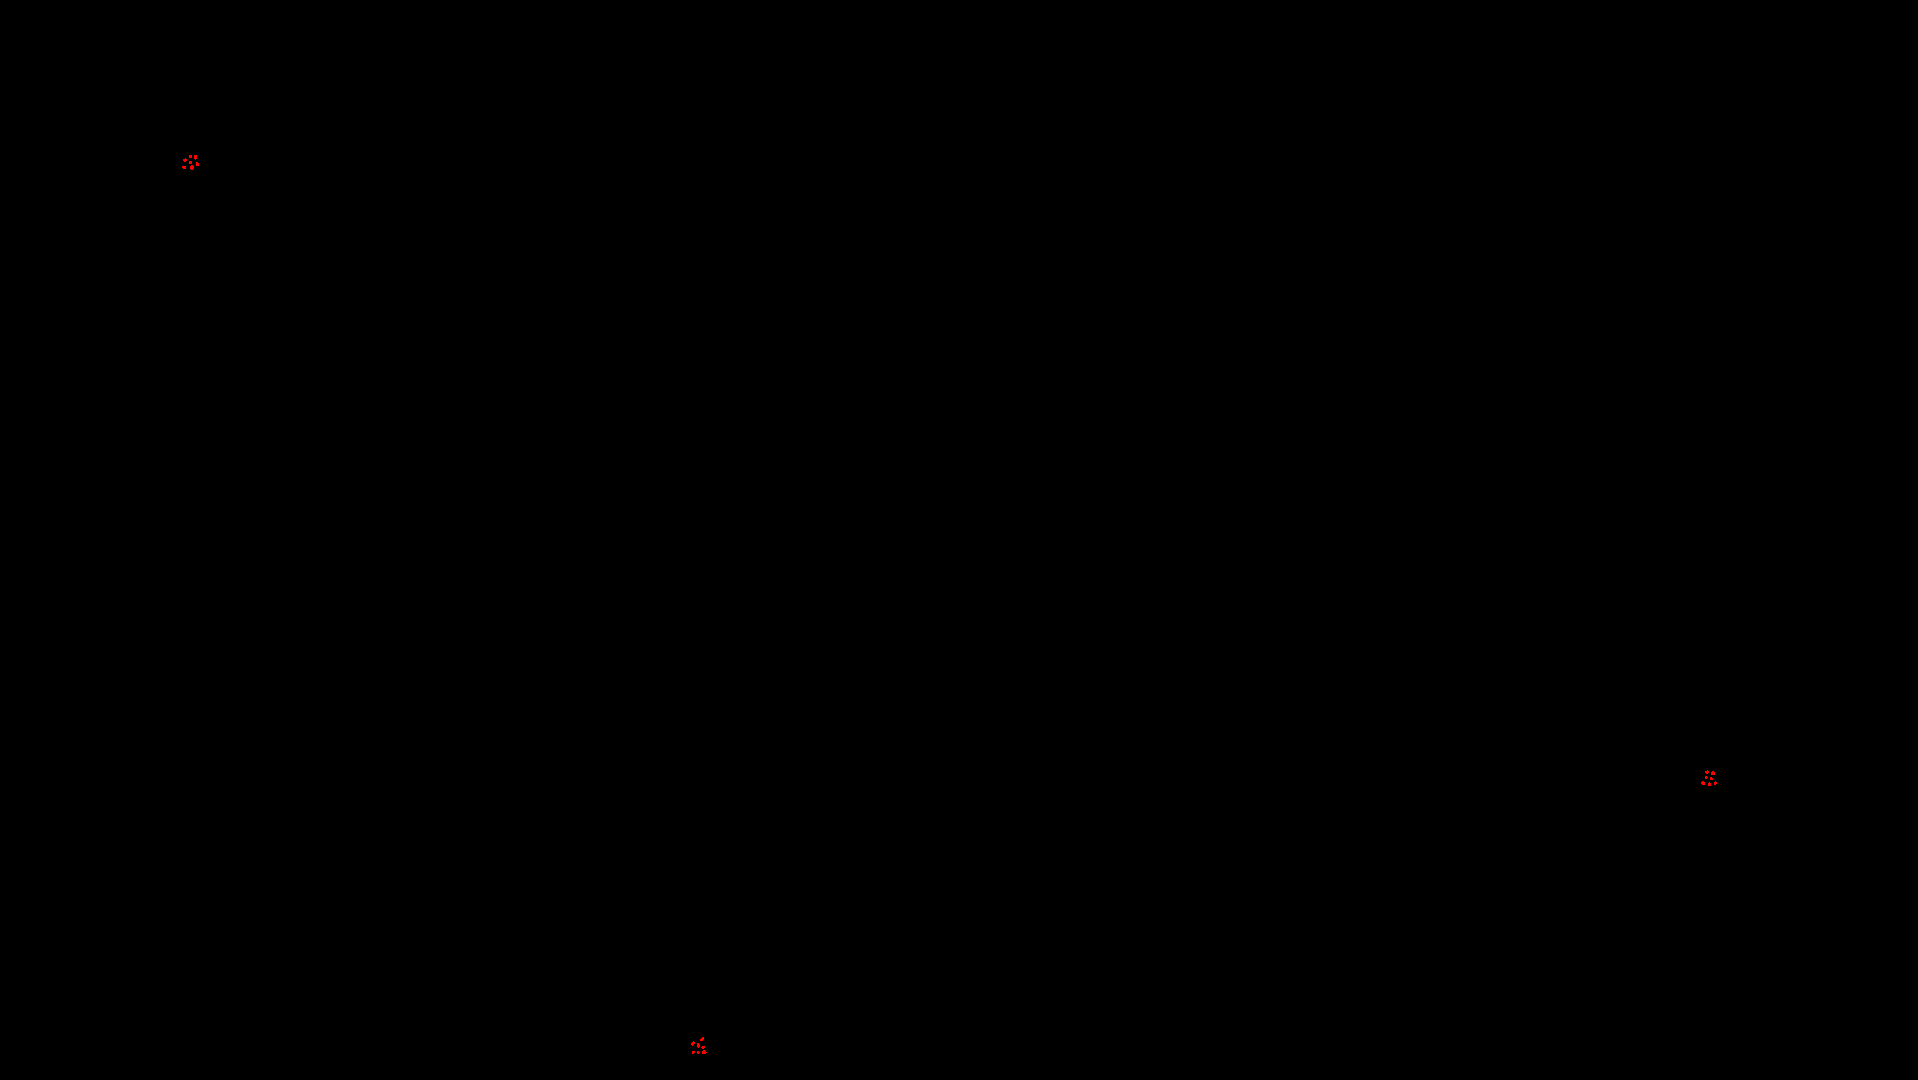Target: (190, 165, 194, 170), (692, 1040, 696, 1046), (702, 1050, 707, 1054), (194, 155, 198, 159), (183, 158, 187, 162), (188, 161, 192, 165), (1705, 770, 1709, 774), (1711, 770, 1715, 774), (1701, 781, 1705, 785), (699, 1037, 703, 1040), (697, 1043, 699, 1048), (188, 155, 192, 158), (196, 162, 199, 166), (182, 166, 186, 169), (1705, 776, 1709, 778), (1714, 781, 1716, 785), (1709, 782, 1711, 786), (701, 1046, 705, 1048), (692, 1051, 696, 1054), (1710, 777, 1712, 780), (697, 1051, 699, 1054)
